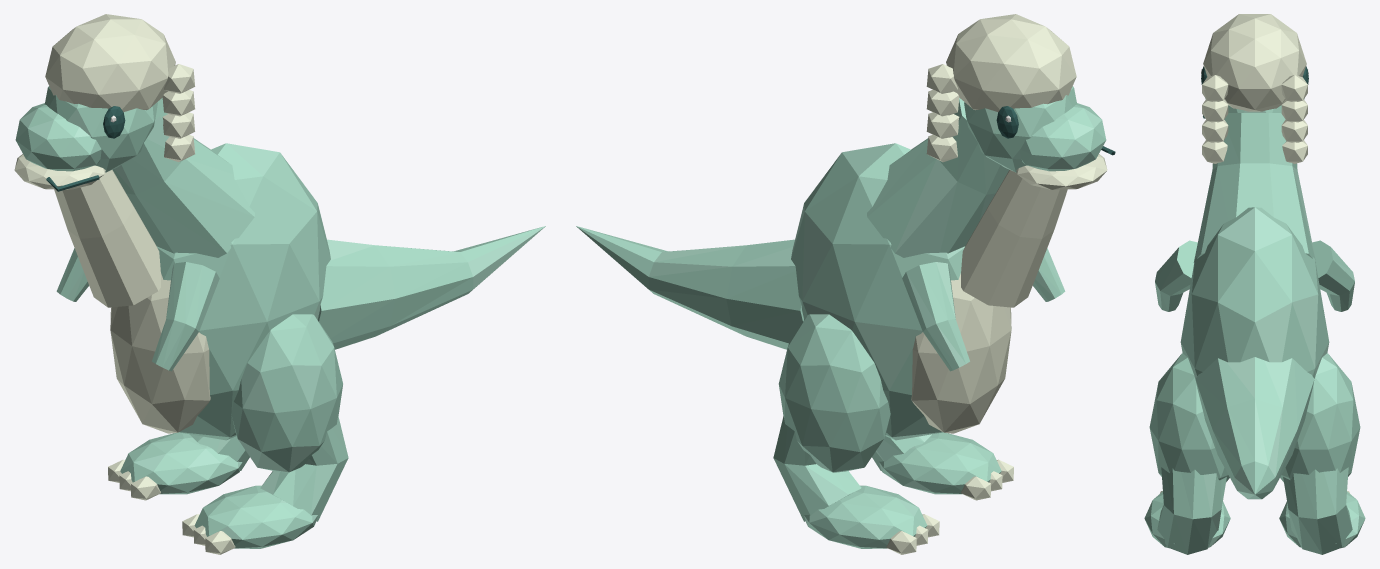
File: pachycephalosaurus.glb
3 renders of one model, left to right at view 1: azimuth 30°, elevation 25°; view 2: azimuth 150°, elevation 25°; view 3: azimuth 270°, elevation 25°, orthographic. The views are drawn at different scales.
Parts seen in each view (by area): view 1: Body, Tail, Thigh, Neck, Dome, Cream throat, Ivory belly, Foot, Foot.001, Arm, Snout, Leg (+8 smaller); view 2: Body, Tail, Thigh.001, Neck, Dome, Cream throat, Ivory belly, Foot.001, Foot, Arm.001, Snout, Leg.001 (+8 smaller); view 3: Body, Tail, Neck, Dome, Thigh, Thigh.001, Leg.001, Leg, Arm, Arm.001, Foot, Foot.001 (+8 smaller).
Boxes of the visible parts, <box> form: Body: <box>157,143,330,440</box>; Tail: <box>318,226,545,349</box>; Thigh: <box>231,314,342,472</box>; Neck: <box>113,98,254,257</box>; Dome: <box>45,14,175,112</box>; Cream throat: <box>54,170,160,307</box>; Ivory belly: <box>110,273,210,433</box>; Foot: <box>194,485,317,548</box>; Foot.001: <box>120,432,242,494</box>; Arm: <box>152,262,219,371</box>; Snout: <box>15,103,101,171</box>; Leg: <box>260,416,348,521</box>; Body: <box>791,143,964,440</box>; Tail: <box>576,226,803,349</box>; Thigh.001: <box>778,314,890,472</box>; Neck: <box>867,98,1008,257</box>; Dome: <box>946,14,1076,111</box>; Cream throat: <box>961,170,1067,307</box>; Ivory belly: <box>911,273,1011,433</box>; Foot.001: <box>804,485,927,548</box>; Foot: <box>879,432,1001,494</box>; Arm.001: <box>902,262,969,371</box>; Snout: <box>1020,103,1106,171</box>; Leg.001: <box>773,416,861,521</box>; Body: <box>1180,207,1329,378</box>; Tail: <box>1195,357,1314,499</box>; Neck: <box>1193,113,1316,262</box>; Dome: <box>1203,14,1306,111</box>; Thigh: <box>1149,353,1229,482</box>; Thigh.001: <box>1280,353,1360,482</box>; Leg.001: <box>1283,467,1352,554</box>; Leg: <box>1157,467,1226,554</box>; Arm: <box>1155,240,1197,311</box>; Arm.001: <box>1312,240,1354,311</box>; Foot: <box>1144,491,1230,547</box>; Foot.001: <box>1279,491,1365,547</box>.
Bounding box in the file's own units: 3.18 × 3.02 × 1.28.
